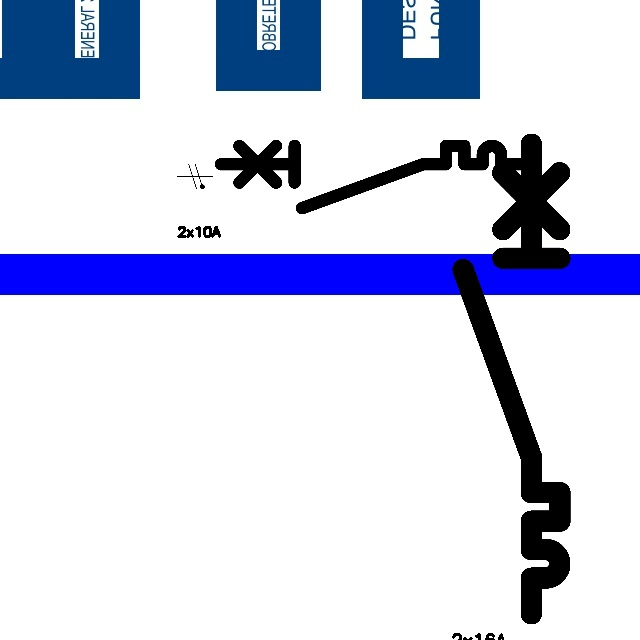interruptor_termomagnetico: (451, 132, 572, 626), (213, 138, 532, 216)
